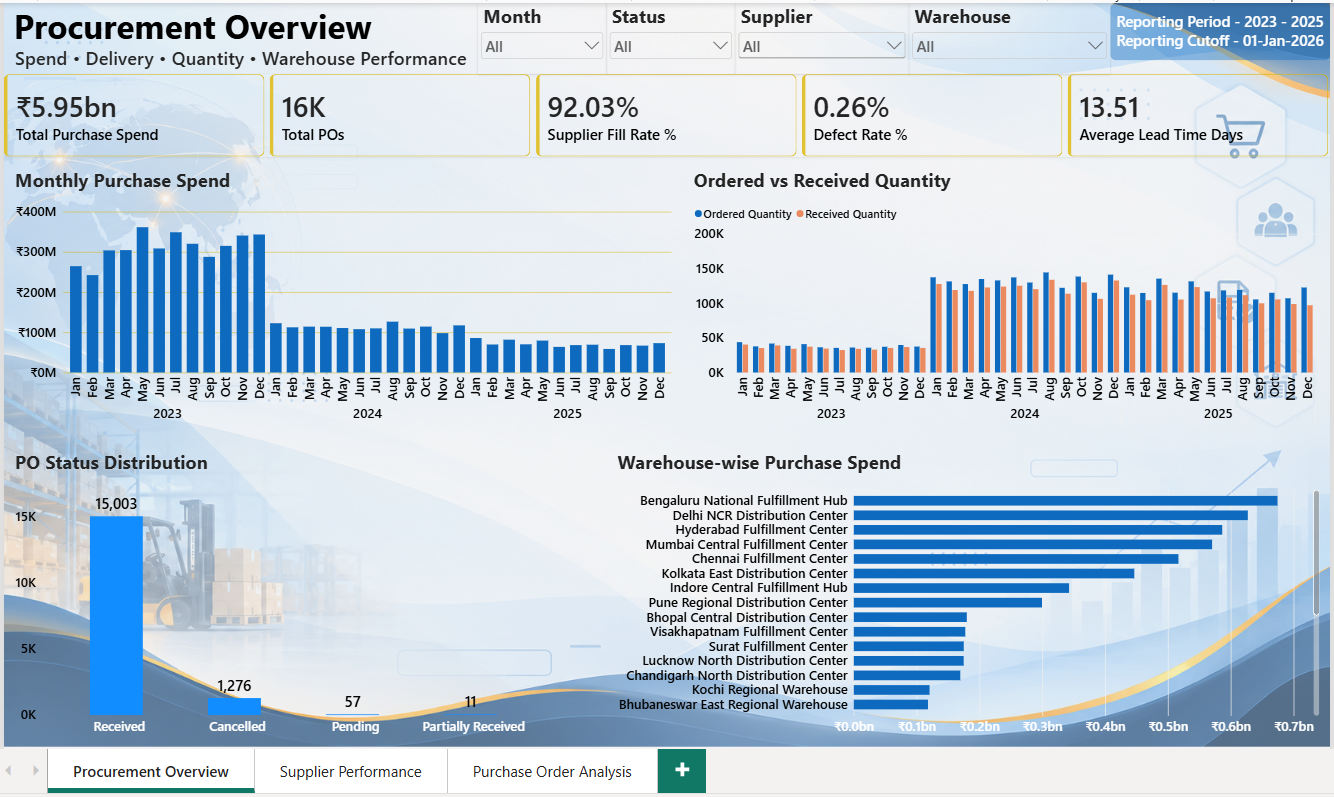

Layout of this report page (visuals, bound fields, positions):
{"tool":"powerbi","page":{"name":"Procurement Overview","canvas":[1920,1080],"ordinal":0},"visuals":[{"type":"shape","box":[1601.5,0,318.5,83.2],"z":0},{"type":"textbox","box":[0,0,546.5,67],"z":1000},{"type":"textbox","box":[0,61.5,685.9,41.6],"z":2000},{"type":"slicer","fields":{"Values":["Dim_Date.Month Name"]},"box":[685.9,0,186.4,103.2],"z":3000},{"type":"slicer","fields":{"Values":["suppliers.supplier_name"]},"box":[1058.7,0,251.5,103.2],"z":4000},{"type":"slicer","fields":{"Values":["warehouses.warehouse_name"]},"box":[1310.2,0,291.4,103.2],"z":5000},{"type":"slicer","fields":{"Values":["purchase_orders.status"]},"box":[872.3,0,186.4,103.2],"z":6000},{"type":"textbox","box":[1610.6,10.9,302.2,61.5],"z":7000},{"type":"cardVisual","fields":{"Data":["Measurs.Total Purchase Spend","Measurs.Total POs","Measurs.Supplier Fill Rate %","Measurs.Defect Rate %","Measurs.Average Lead Time Days"]},"box":[0,103.2,1920.1,119.4],"z":8000},{"type":"columnChart","title":"Monthly Purchase Spend","fields":{"Y":["Measurs.Total Purchase Spend"],"Category":["Dim_Date.Year","Dim_Date.Month Name"]},"box":[0,222.6,982.6,409],"z":9000},{"type":"clusteredColumnChart","title":"Ordered  vs Received Quantity","fields":{"Category":["Dim_Date.Year","Dim_Date.Month Name"],"Y":["Measurs.Ordered Quantity","Measurs.Received Quantity"]},"box":[982.6,222.6,937.4,409],"z":10000},{"type":"barChart","title":"Warehouse-wise Purchase Spend","fields":{"Category":["warehouses.warehouse_name"],"Y":["Measurs.Total Purchase Spend"]},"box":[872.3,631.6,1047.8,448.8],"z":11000},{"type":"columnChart","title":"PO Status Distribution","fields":{"Category":["purchase_orders.status"],"Y":["Measurs.Total POs"]},"box":[0,631.6,807.1,448.8],"z":12000}]}

Visuals, with their boxes on the page's 1920x1080 design canvas (x1, y1, x2, y2). These are canvas units, not pixel positions in the 1334x797 screenshot, which may show the page scaled, cropped or inside an application window:
shape: l=1602, t=0, r=1920, b=83
textbox: l=0, t=0, r=546, b=67
textbox: l=0, t=62, r=686, b=103
slicer - Dim_Date.Month Name: l=686, t=0, r=872, b=103
slicer - suppliers.supplier_name: l=1059, t=0, r=1310, b=103
slicer - warehouses.warehouse_name: l=1310, t=0, r=1602, b=103
slicer - purchase_orders.status: l=872, t=0, r=1059, b=103
textbox: l=1611, t=11, r=1913, b=72
cardVisual - Measurs.Total Purchase Spend x Measurs.Total POs: l=0, t=103, r=1920, b=223
"Monthly Purchase Spend" columnChart: l=0, t=223, r=983, b=632
"Ordered  vs Received Quantity" clusteredColumnChart: l=983, t=223, r=1920, b=632
"Warehouse-wise Purchase Spend" barChart: l=872, t=632, r=1920, b=1080
"PO Status Distribution" columnChart: l=0, t=632, r=807, b=1080
